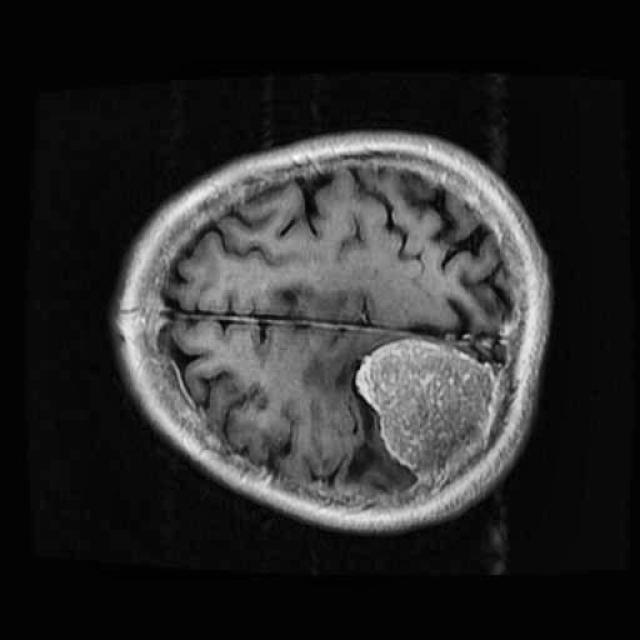Tumor: (339, 315, 521, 499)
